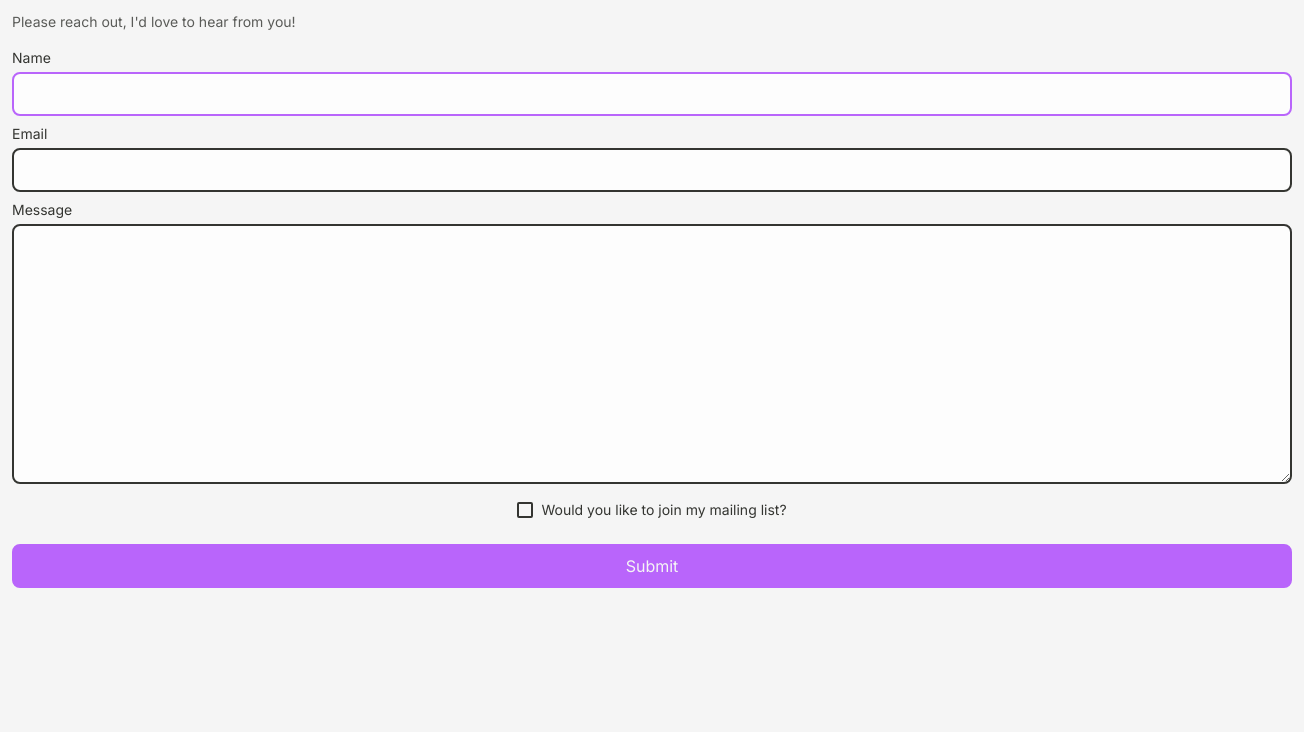
it: Contact Form component › shows error validation text when form is submitted without any entries
Pre-maturely click the submission button
What coordinates should you click on to do the following:
click the button "Submit"
I would click on:
 (652, 566)
Its box is top-left (12, 544), bottom-right (1292, 588).
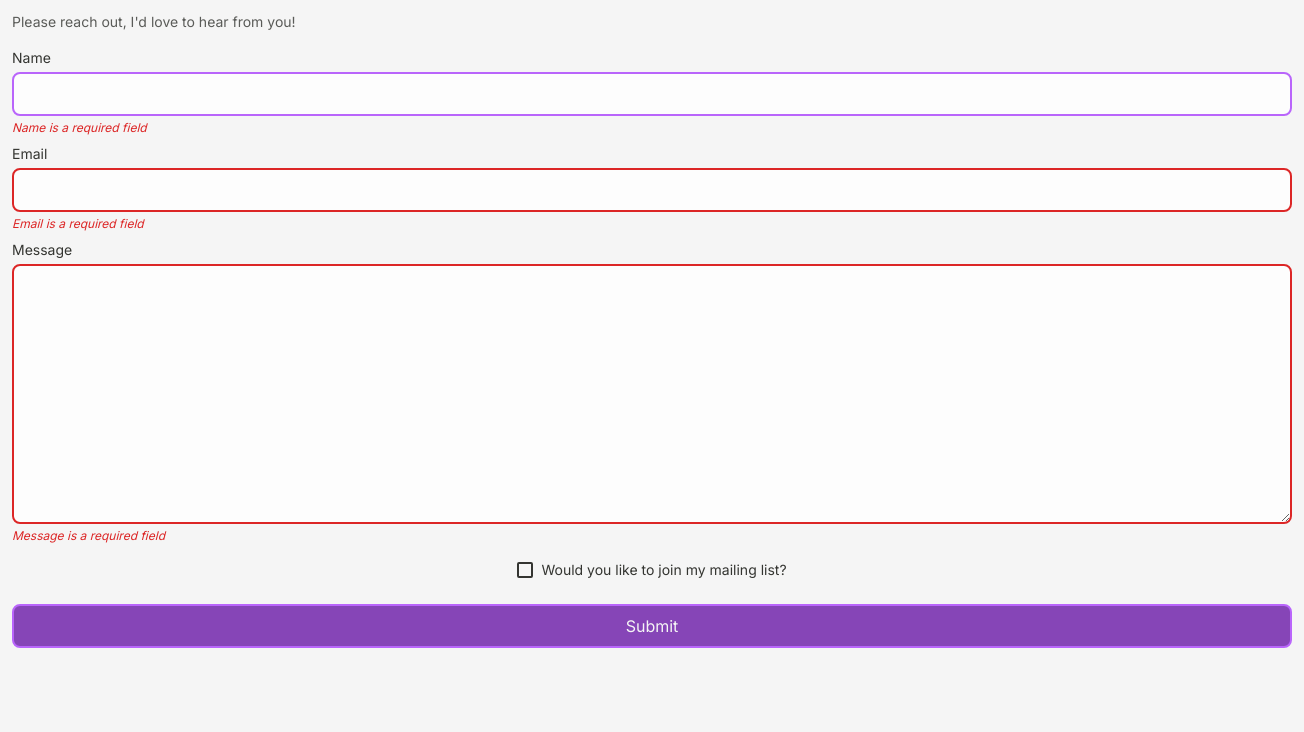
Now the text "Name is a required field" is shown, box top-left (12, 120), bottom-right (147, 135)
Now the text "Email is a required field" is shown, box top-left (12, 216), bottom-right (144, 231)
Now the text "Message is a required field" is shown, box top-left (12, 528), bottom-right (165, 543)
